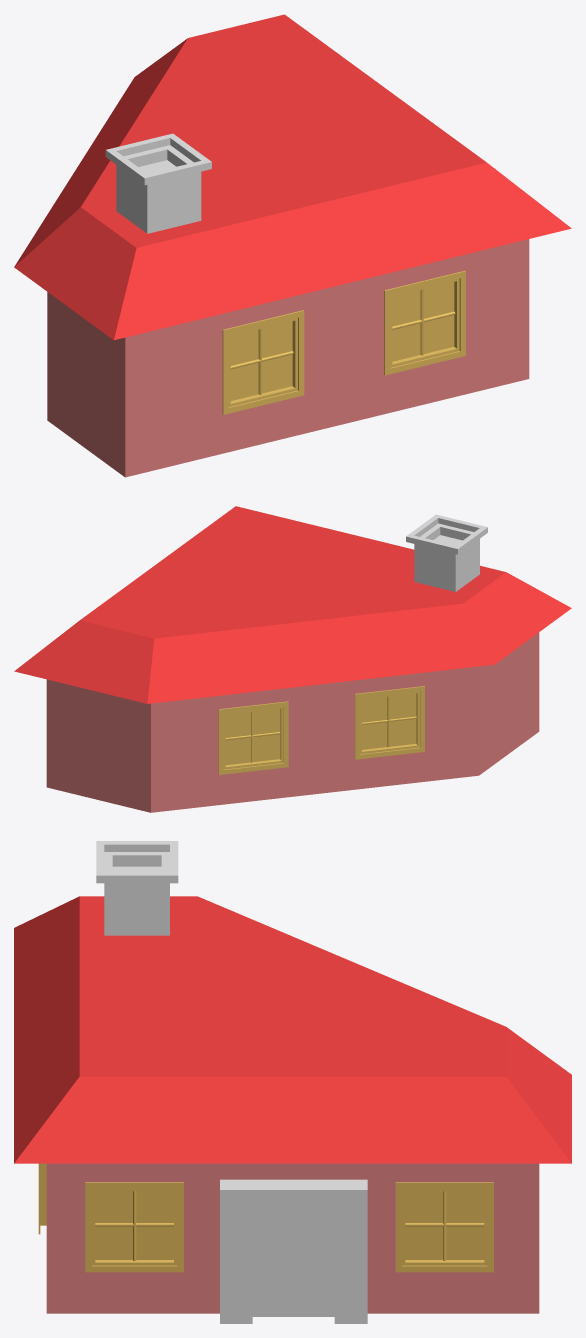
Rendered from diamond.fbx.
The picture shows the model from 3 angles, top to bottom: view 1: azimuth 30°, elevation 25°; view 2: azimuth 150°, elevation 25°; view 3: azimuth 270°, elevation 25°; orthographic projection. The views are drawn at different scales.
Parts seen in each view (by area): view 1: Line003, Line002, FixedWindow001, AwningWindow001; view 2: Line003, Line002, FixedWindow001, AwningWindow001; view 3: Line003, Line002, Pivot001, FixedWindow001, AwningWindow001.
Part boxes in pixels (x1,y1,x2,y2): Line003: [14, 14, 571, 340]; Line002: [47, 239, 529, 477]; FixedWindow001: [222, 271, 465, 414]; AwningWindow001: [105, 133, 211, 233]; Line003: [14, 506, 571, 703]; Line002: [46, 632, 539, 812]; FixedWindow001: [218, 686, 424, 774]; AwningWindow001: [406, 514, 487, 591]; Line003: [14, 896, 571, 1163]; Line002: [46, 1163, 539, 1313]; Pivot001: [220, 1179, 367, 1323]; FixedWindow001: [38, 1163, 493, 1272]; AwningWindow001: [96, 841, 178, 935].
Bounding box in the file's own units: 34 × 19.26 × 34.
